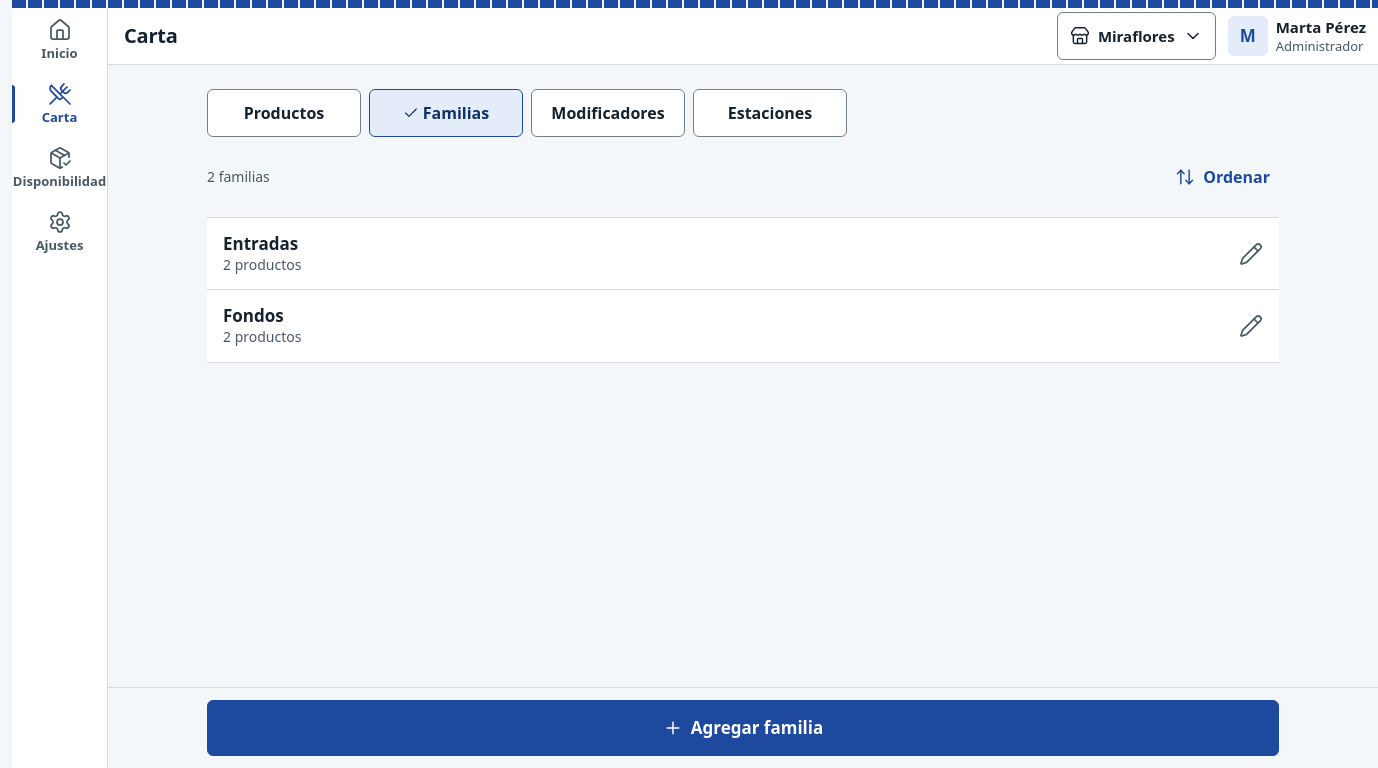
Test: secciones: familias y estaciones › crea una familia con clave de idempotencia y la lista se vuelve a leer
(page scrolled)
Expected: the list named "Familias" is shown, [207, 217, 1279, 363]
Click the button "Agregar familia" at (743, 728), box [207, 700, 1279, 756]
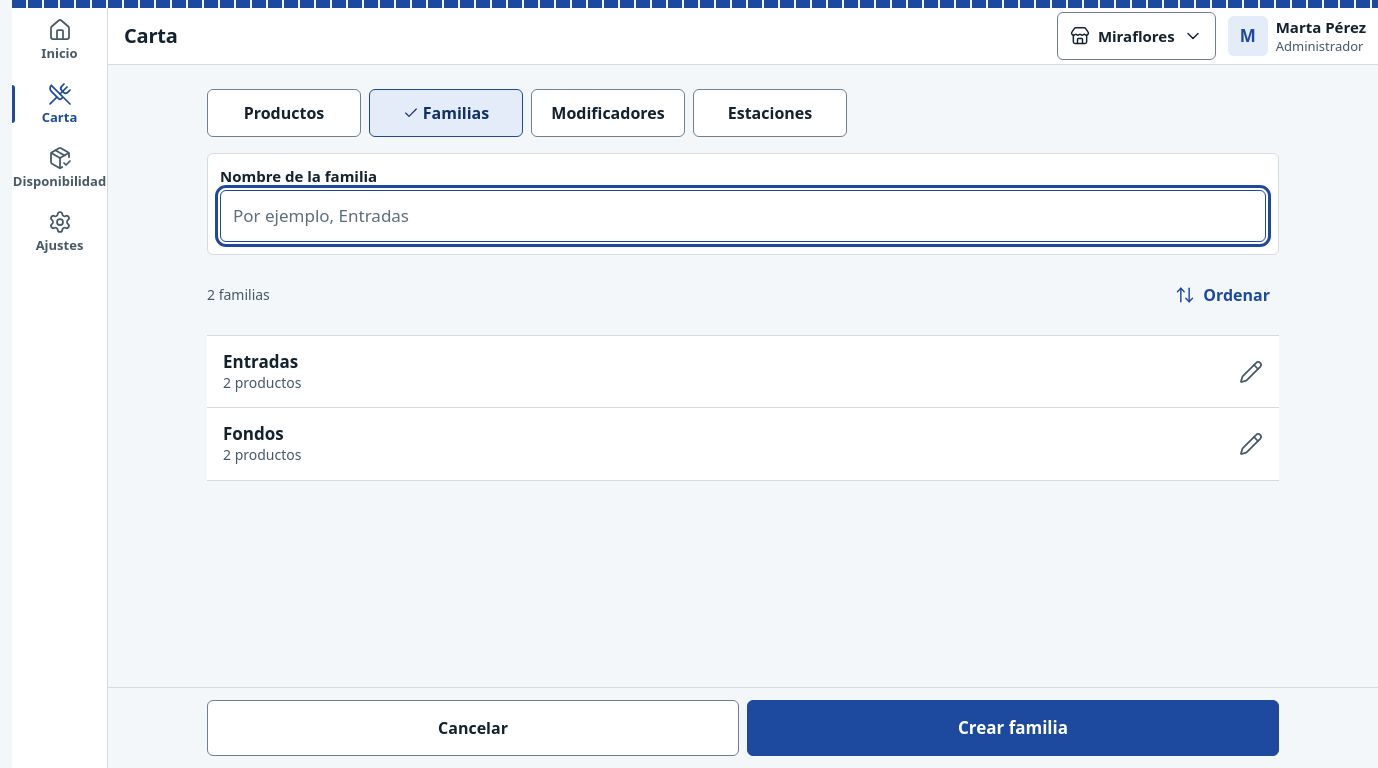
Type "  Postres " into the field labelled "Nombre de la familia" at (743, 216), box [221, 192, 1265, 240]
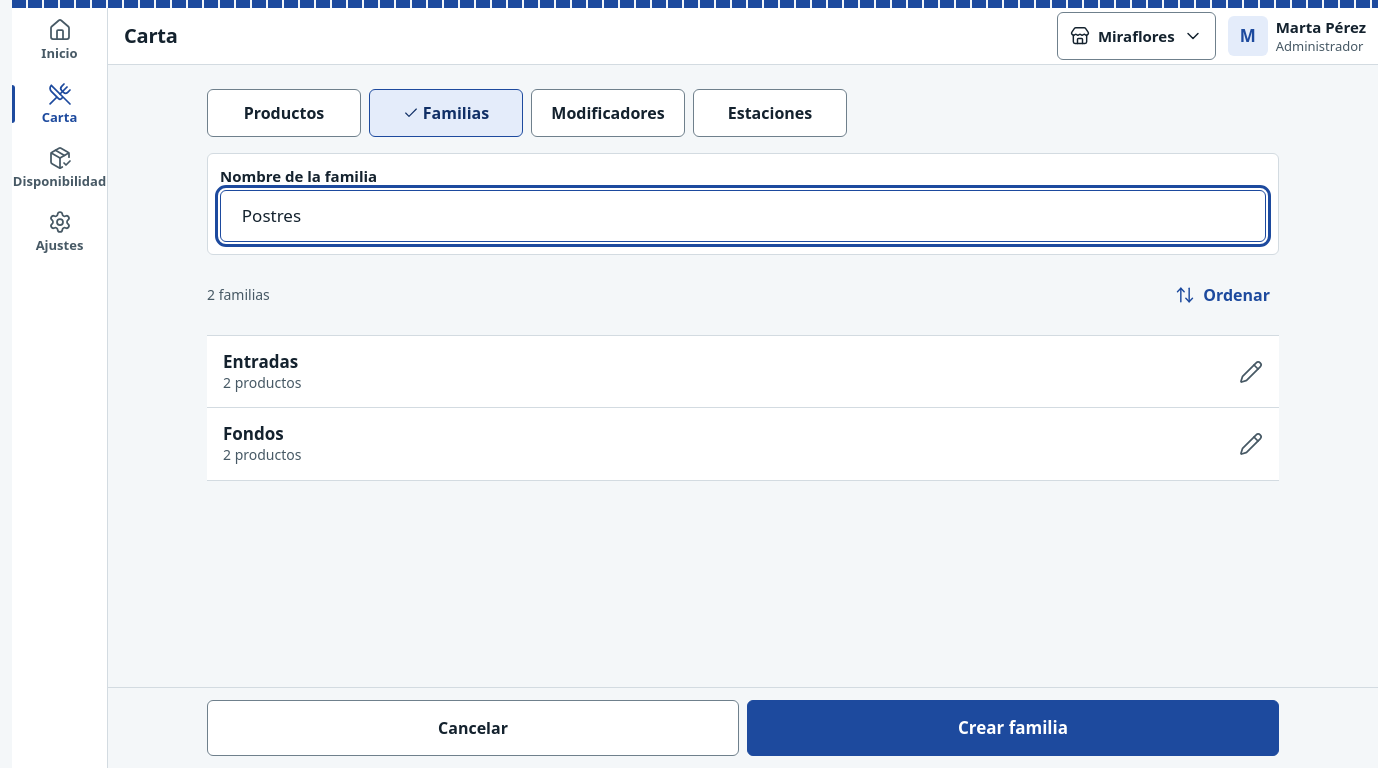
Click the button "Crear familia" at (1013, 728), box [747, 700, 1279, 756]
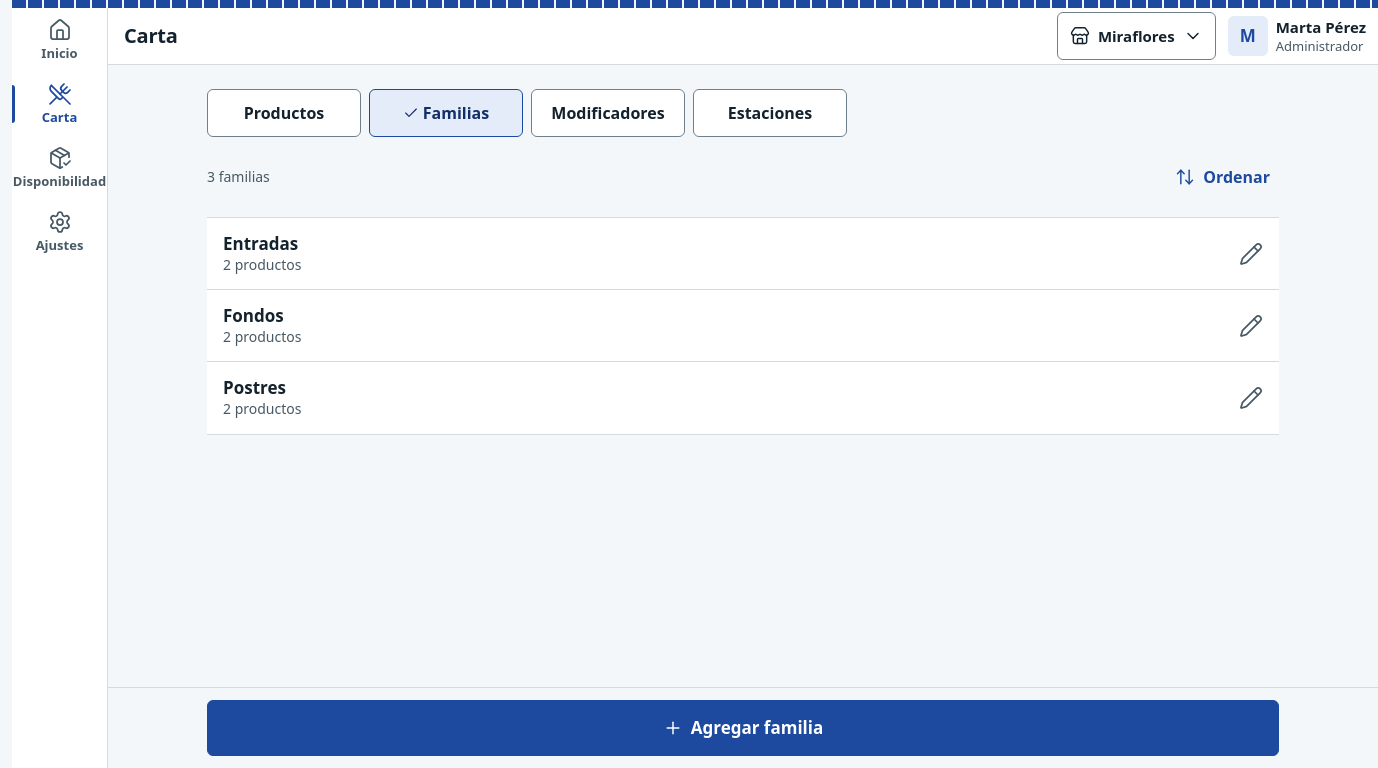
Expected: the button with aria-label "Editar Postres" is shown, [207, 362, 1279, 434]
